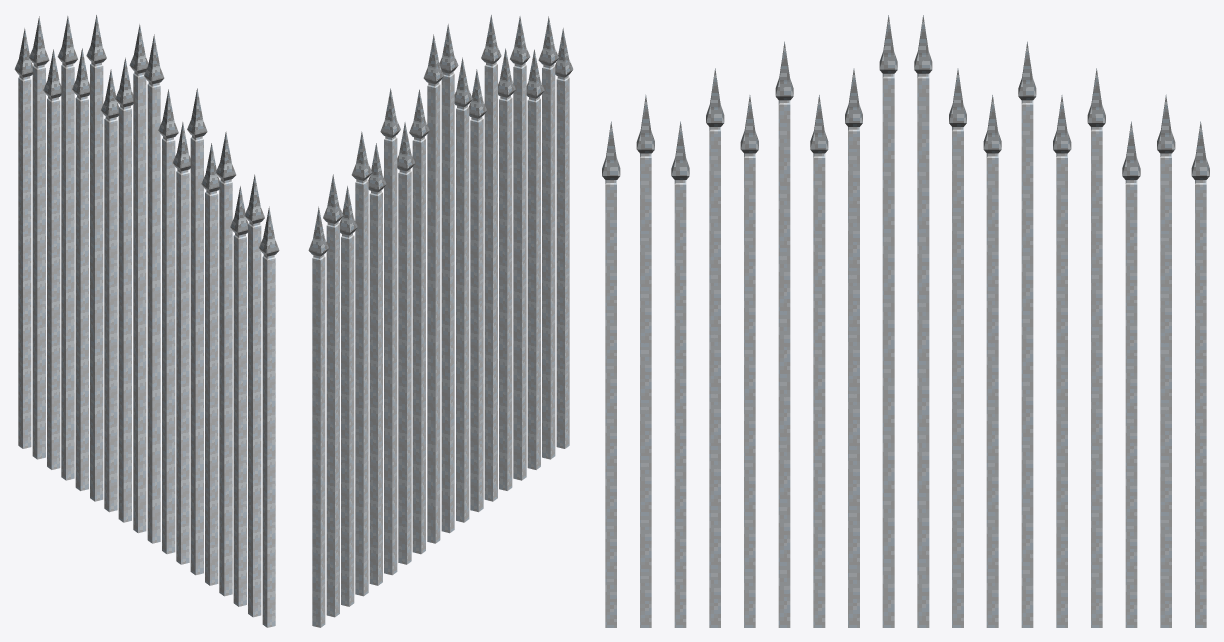
The model's file is Fence.fbx.
3 renders of one model, left to right at view 1: azimuth 30°, elevation 25°; view 2: azimuth 150°, elevation 25°; view 3: azimuth 270°, elevation 25°, orthographic. The views are drawn at different scales.
Parts seen in each view (by area): view 1: Fence; view 2: Fence; view 3: Fence.
Part boxes in pixels (<box>): Fence: <box>14,15,279,627</box>; Fence: <box>308,15,573,627</box>; Fence: <box>602,15,1209,627</box>.
Size of the model in its own units: 31.13 by 1151 by 1037.
